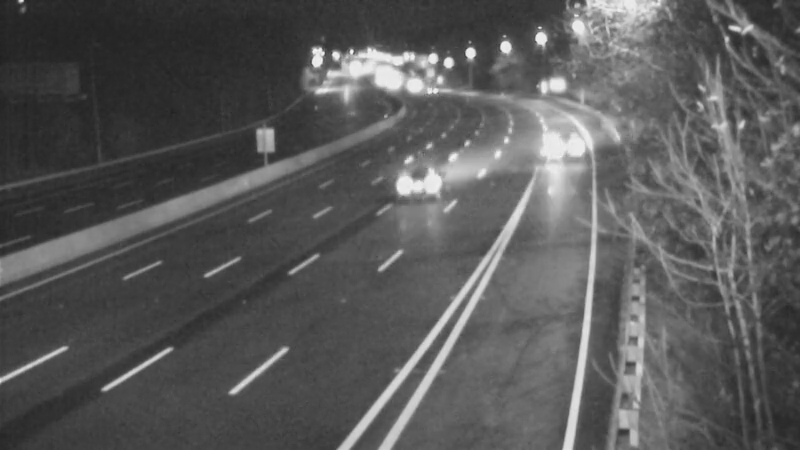vehicle: (390, 142, 470, 222), (390, 62, 440, 112), (406, 64, 456, 114), (541, 123, 591, 173)
